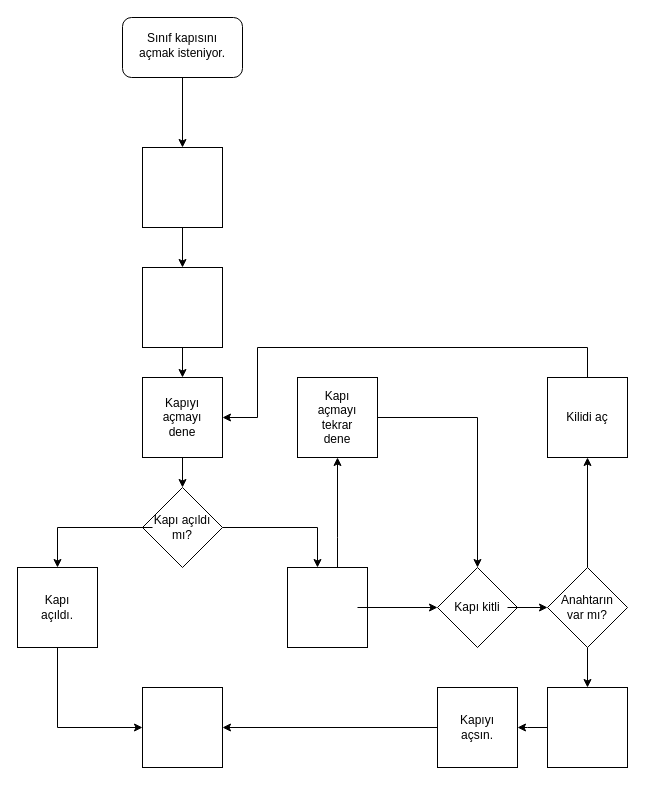
Image size: 645x786. Some labels were removed from this diagram. The box of each missing label's shape, as (x1, y1, x2, y2) in pixels:
Kapı açık: (142, 686, 222, 768)
Kapı açılmadı.: (286, 566, 368, 648)
Kapıya kadar yürü: (142, 266, 222, 348)
Kilidi açılmadıysa birisiyle iletişime geç.: (546, 686, 628, 768)
Yerinden kalk: (142, 146, 222, 228)
